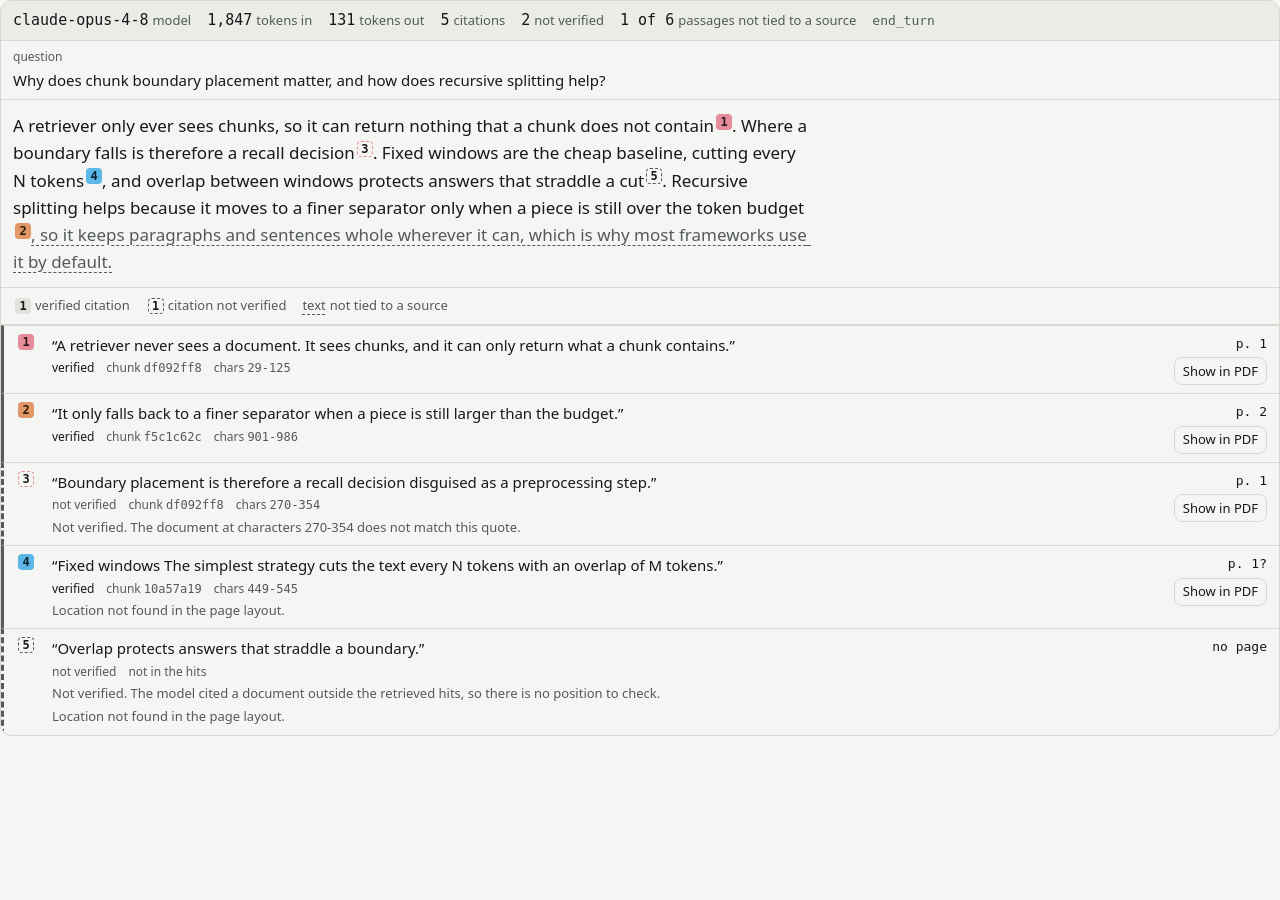
Test: ChatInspector › a citation with no layout location searches its chunk's page, and says so
The width and height of the screenshot is (1280, 900).
Click the button "4": (94, 176) top-left (86, 168), bottom-right (102, 184)
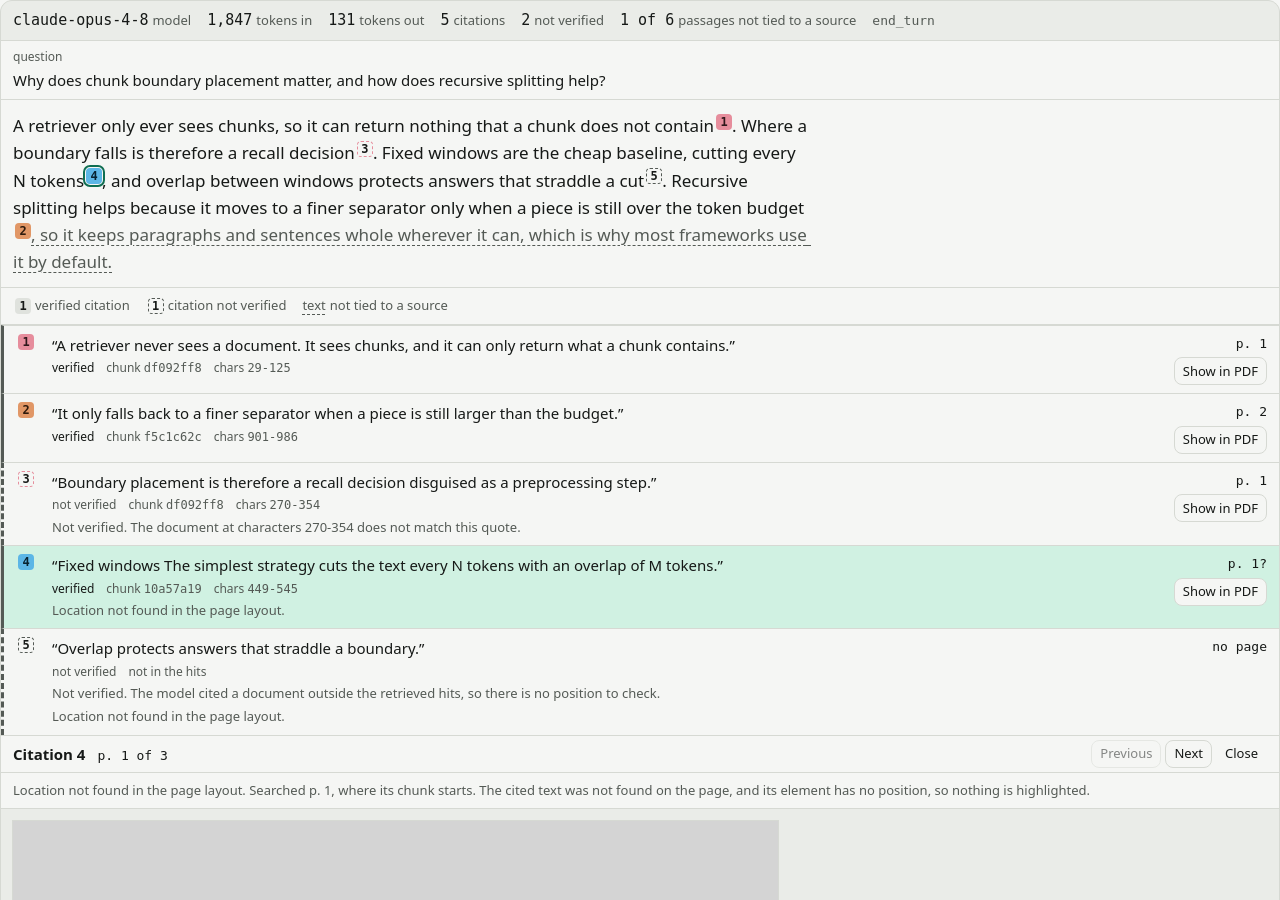
Expected: the text with test id "pdf-notice" shows "Location not found in the page layout. Searched p. 1", top-left (13, 781), bottom-right (1090, 799)
